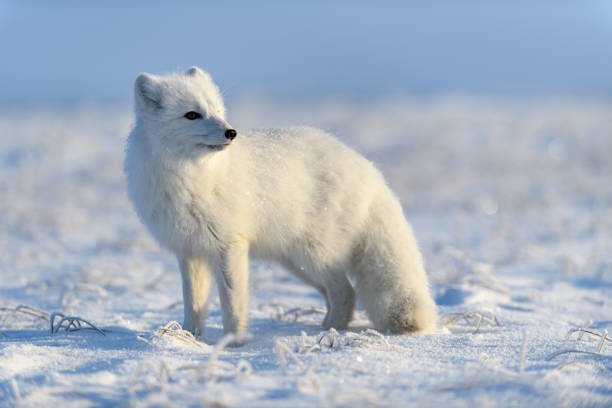arcticfox: (145, 77, 244, 178)
